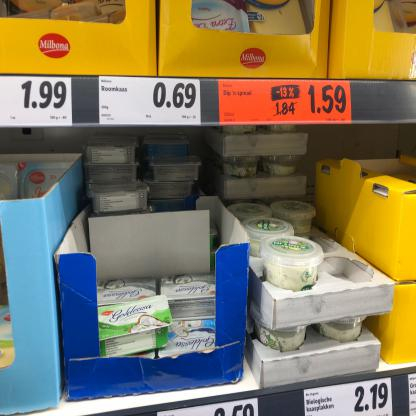prtg: (219, 80, 353, 126), (100, 77, 202, 126), (1, 77, 73, 128), (304, 378, 394, 416), (158, 399, 259, 416), (409, 374, 416, 416)
